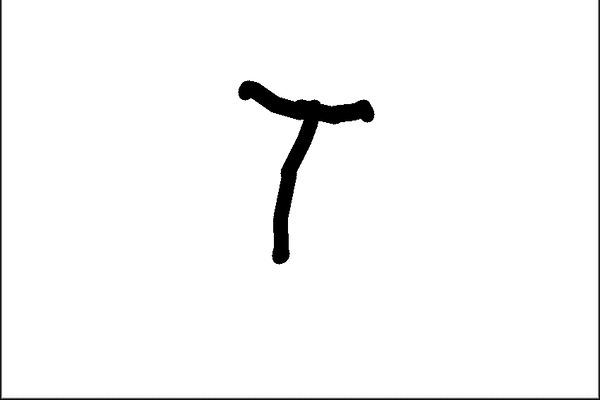T: (225, 69, 390, 273)
